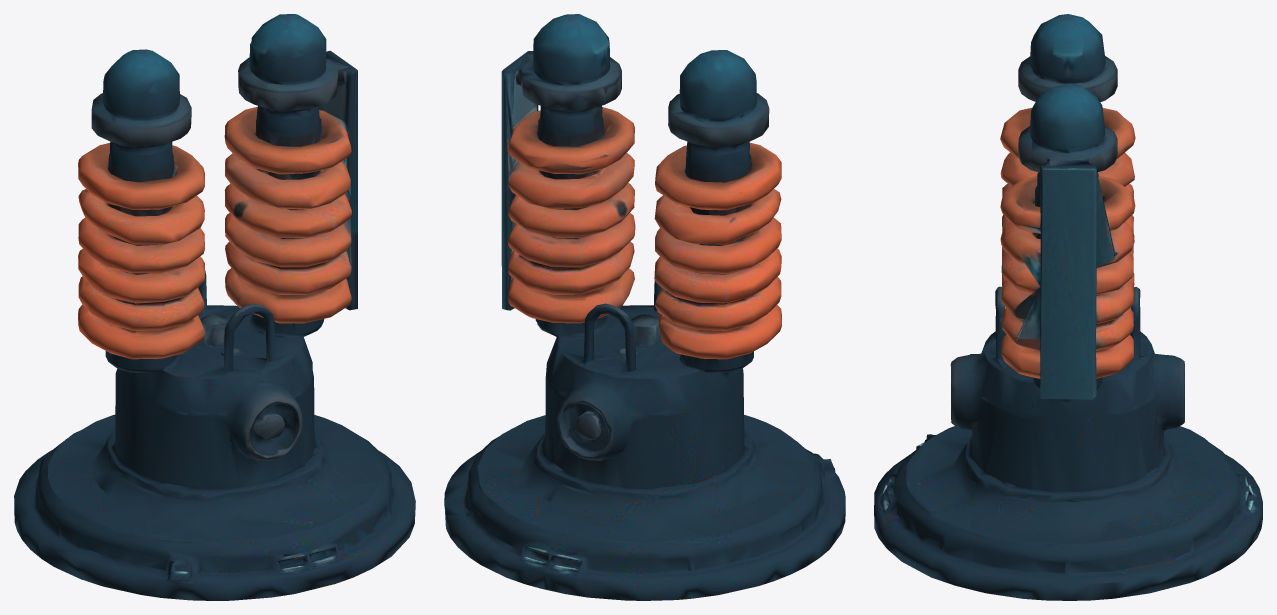
Rendered from tesla.glb.
The picture shows the model from 3 angles, left to right: view 1: azimuth 30°, elevation 25°; view 2: azimuth 150°, elevation 25°; view 3: azimuth 270°, elevation 25°; orthographic projection. The views are drawn at different scales.
Visible parts, largest first — view 1: tesla-Meshy-v03; view 2: tesla-Meshy-v03; view 3: tesla-Meshy-v03.
Part boxes in pixels (<box>): tesla-Meshy-v03: <box>14,14,415,600</box>; tesla-Meshy-v03: <box>444,14,845,600</box>; tesla-Meshy-v03: <box>874,14,1262,600</box>.
Bounding box in the file's own units: 1.44 × 1.9 × 1.43.
1 material, 1 textured.
